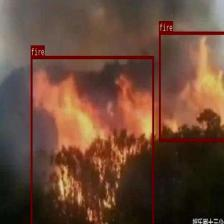fire: (30, 56, 154, 224), (159, 31, 224, 141)
